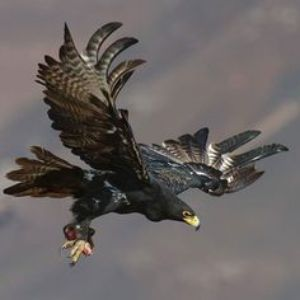eagle: (3, 19, 295, 272)
